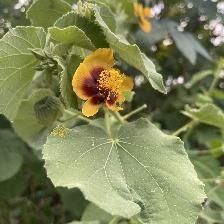indian mallow: (70, 47, 137, 121)
